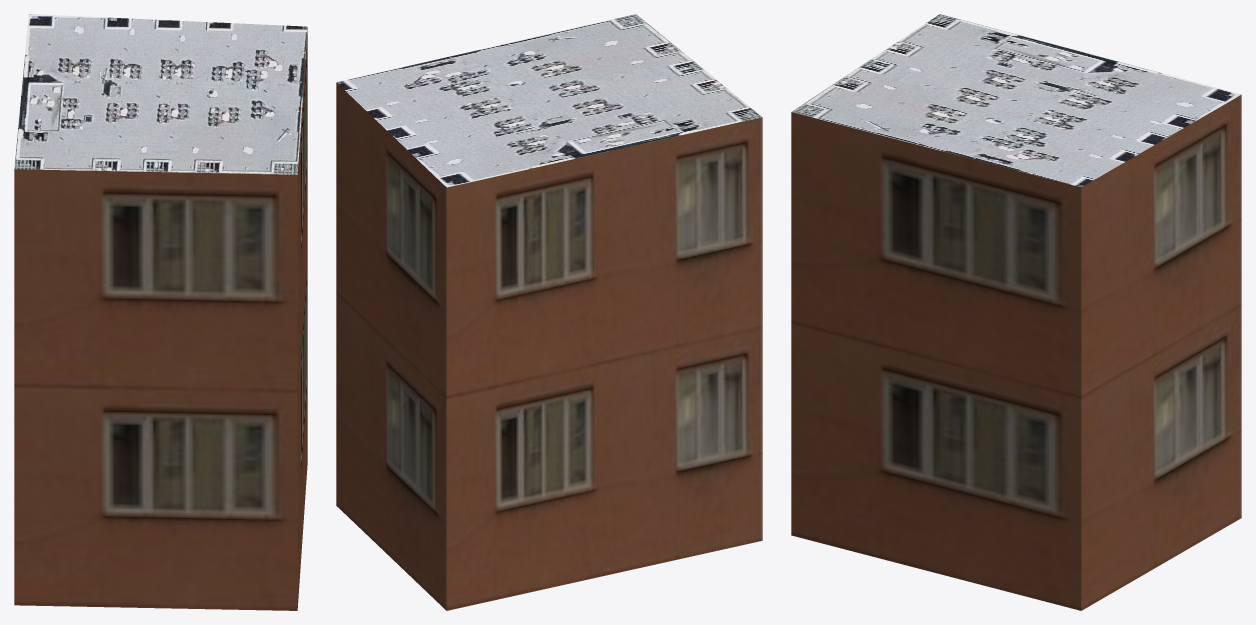
Rendered from ResTex__4954.fbx.
The picture shows the model from 3 angles, left to right: view 1: azimuth 30°, elevation 25°; view 2: azimuth 150°, elevation 25°; view 3: azimuth 270°, elevation 25°; orthographic projection. The views are drawn at different scales.
Parts seen in each view (by area): view 1: CityEngineMaterial_20_m, CityEngineMaterial_8_m; view 2: CityEngineMaterial_20_m, CityEngineMaterial_8_m; view 3: CityEngineMaterial_20_m, CityEngineMaterial_8_m.
Part boxes in pixels (box(x1,y1,x2,y2)): CityEngineMaterial_20_m: box(14, 29, 307, 610); CityEngineMaterial_8_m: box(14, 14, 307, 174); CityEngineMaterial_20_m: box(336, 82, 762, 610); CityEngineMaterial_8_m: box(336, 14, 761, 187); CityEngineMaterial_20_m: box(791, 95, 1241, 610); CityEngineMaterial_8_m: box(791, 14, 1241, 187).
Bounding box in the file's own units: 5.27 × 6 × 5.79.
Materials: 2 (2 with a texture image).
